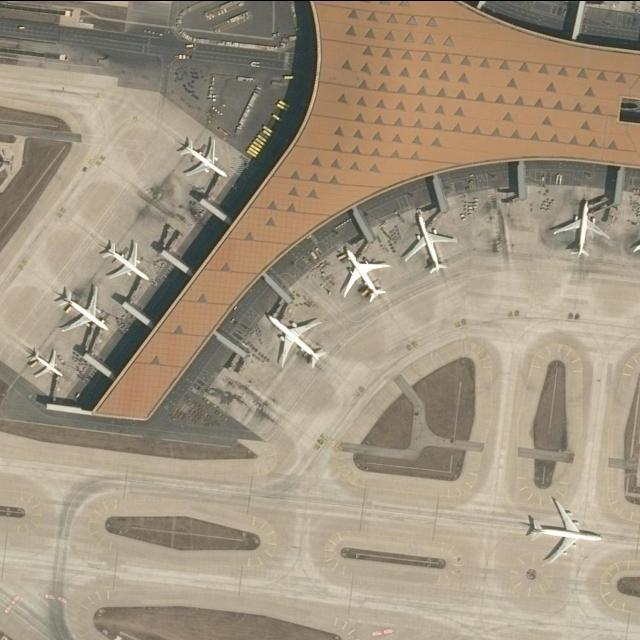Aircraft: (523, 492, 605, 562), (263, 310, 331, 368), (399, 212, 459, 275), (548, 200, 609, 259), (335, 243, 389, 304), (56, 289, 113, 335), (100, 238, 146, 286), (177, 131, 223, 177), (29, 340, 65, 382)
